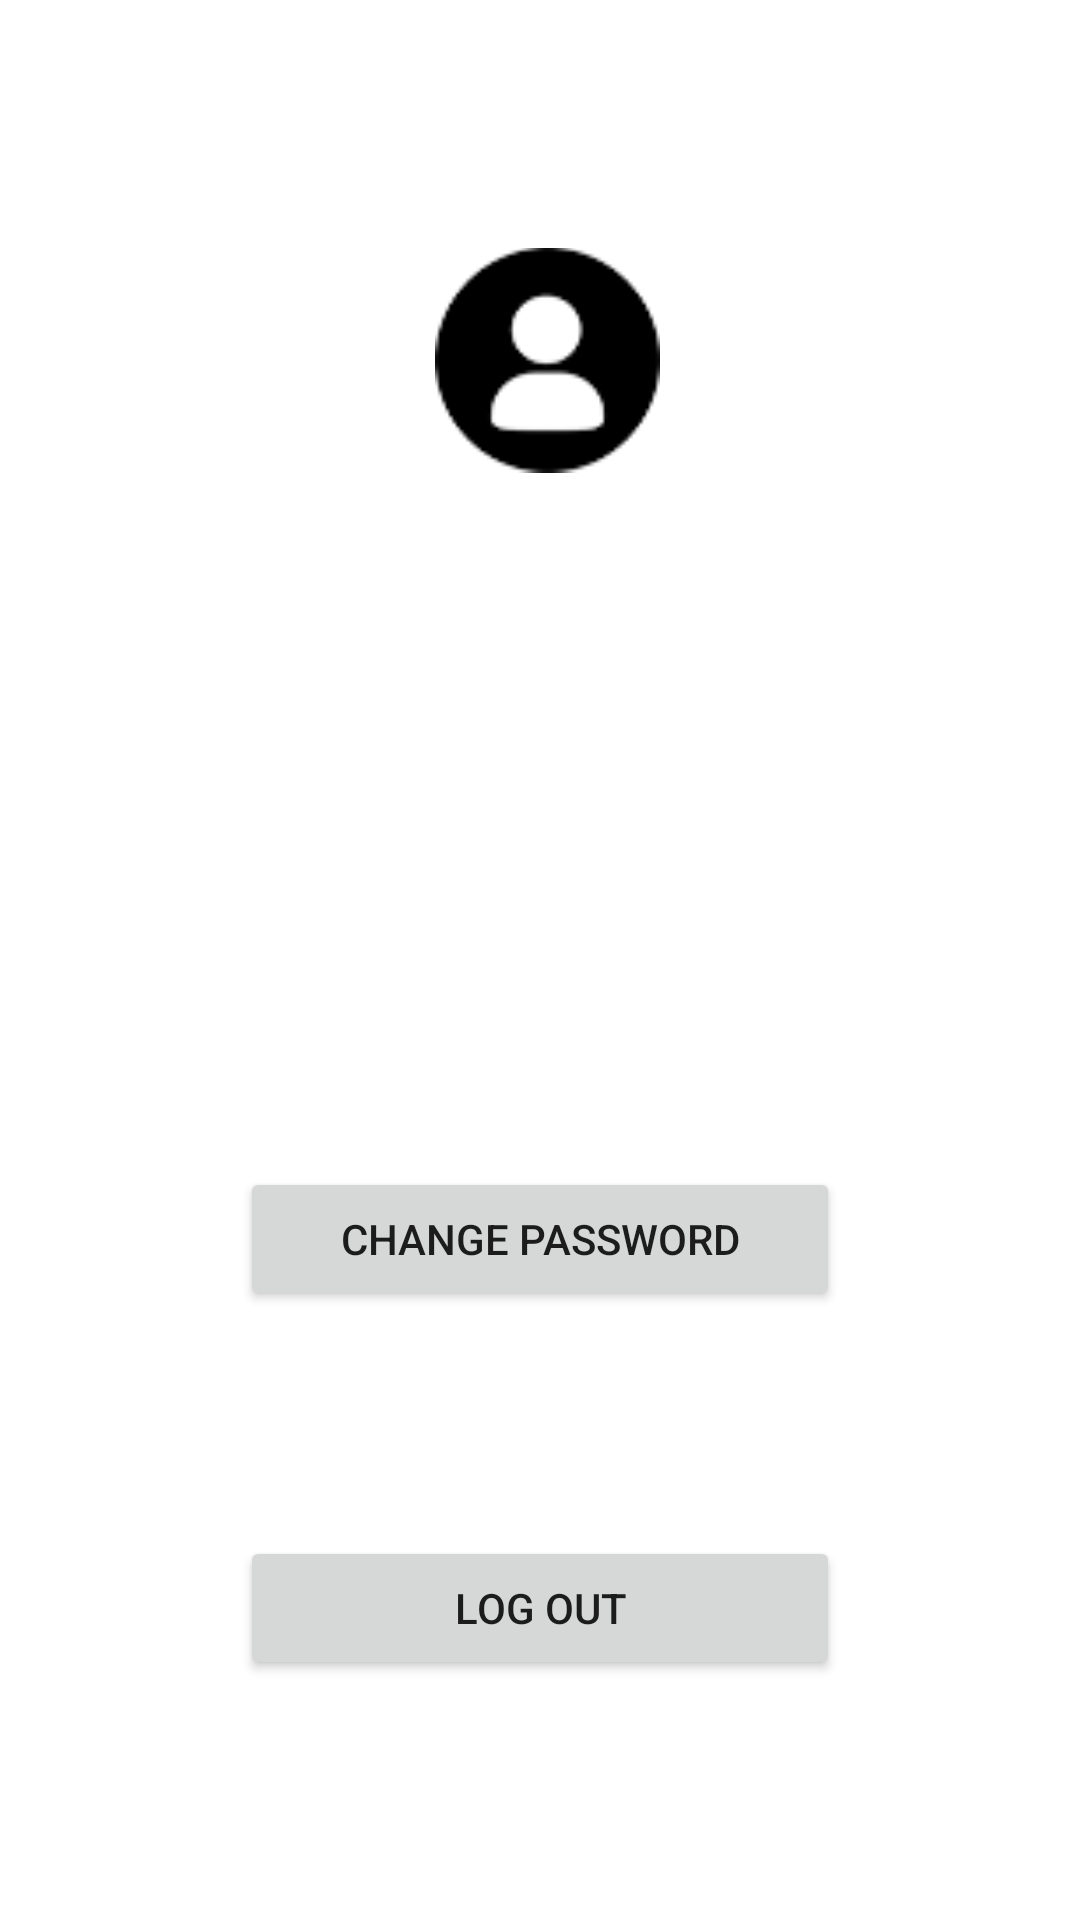

Where icons sit on this 1080x1920 app screen, as [x1,y1,x2,y2]:
profile: [435,248,660,473]
